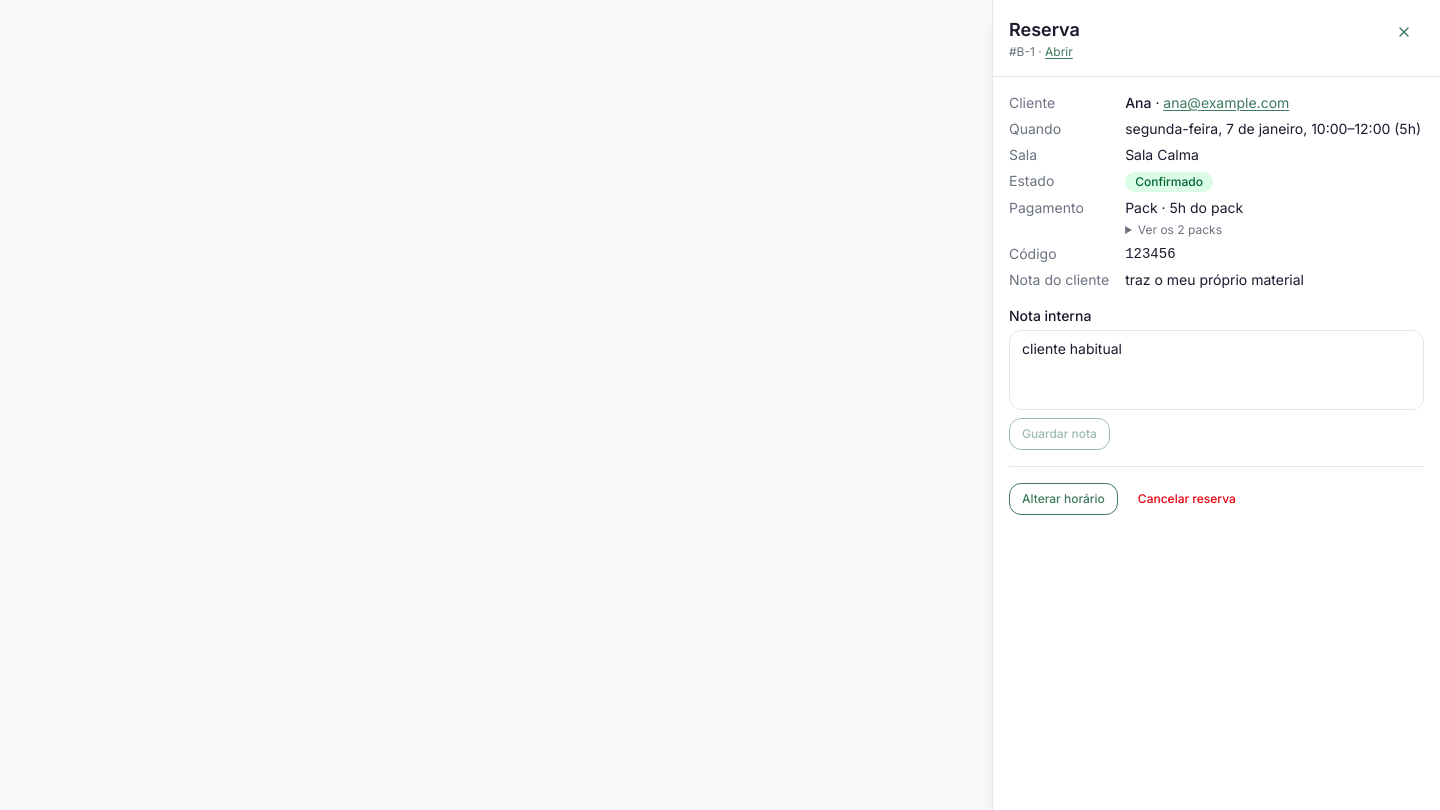
Test: BookingSheet — what it shows › lists which packs a booking drew on, behind a disclosure (H02)
Check: the text "Pack · 5h do pack Ver os 2 packs" is shown, box [1125,199,1243,237]
Click the heading "Ver os 2 packs". click: (1180, 230)
box: [1138,222,1222,237]
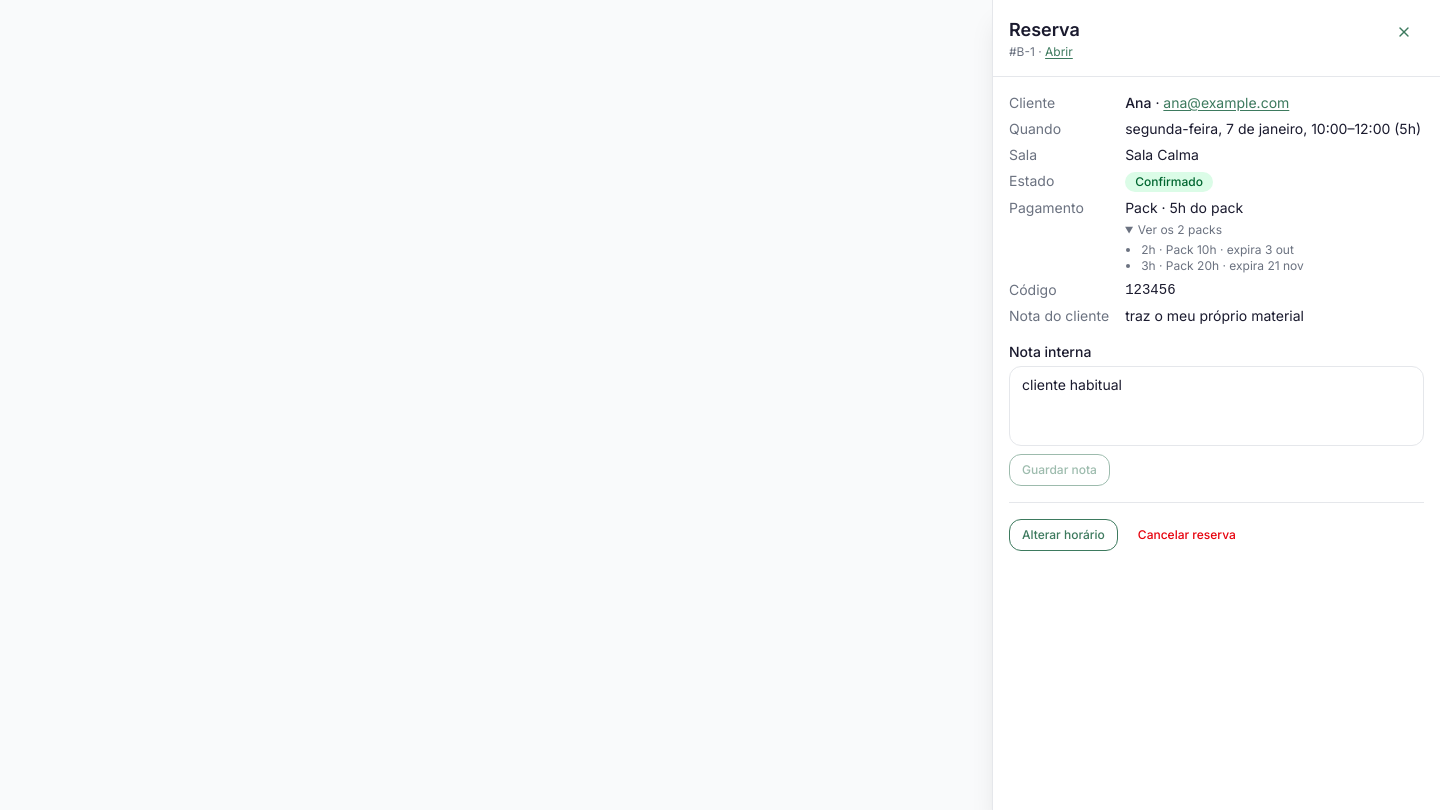
Check: the list item "2h · Pack 10h · expira 3 out" is shown, box [1141,242,1294,257]
Check: the list item "3h · Pack 20h · expira 21 nov" is shown, box [1141,258,1304,273]
